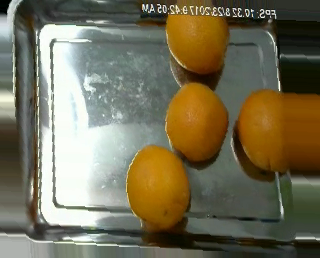Orange: (126, 144, 190, 225), (165, 81, 229, 160)
